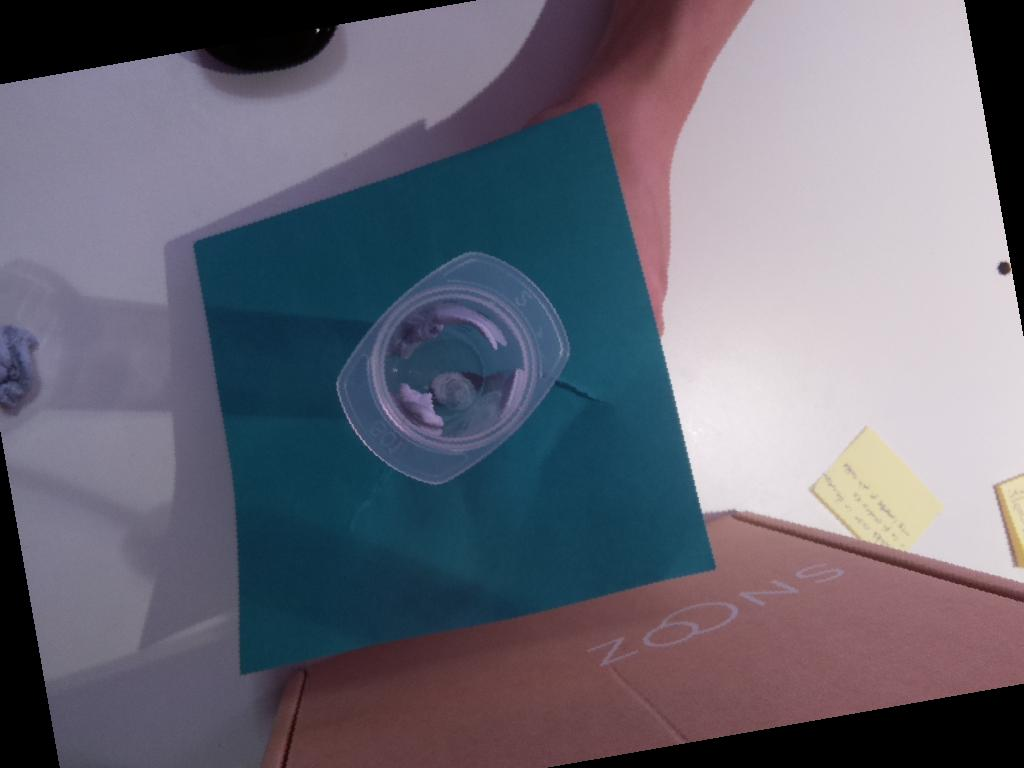dirty: (334, 245, 569, 489)
